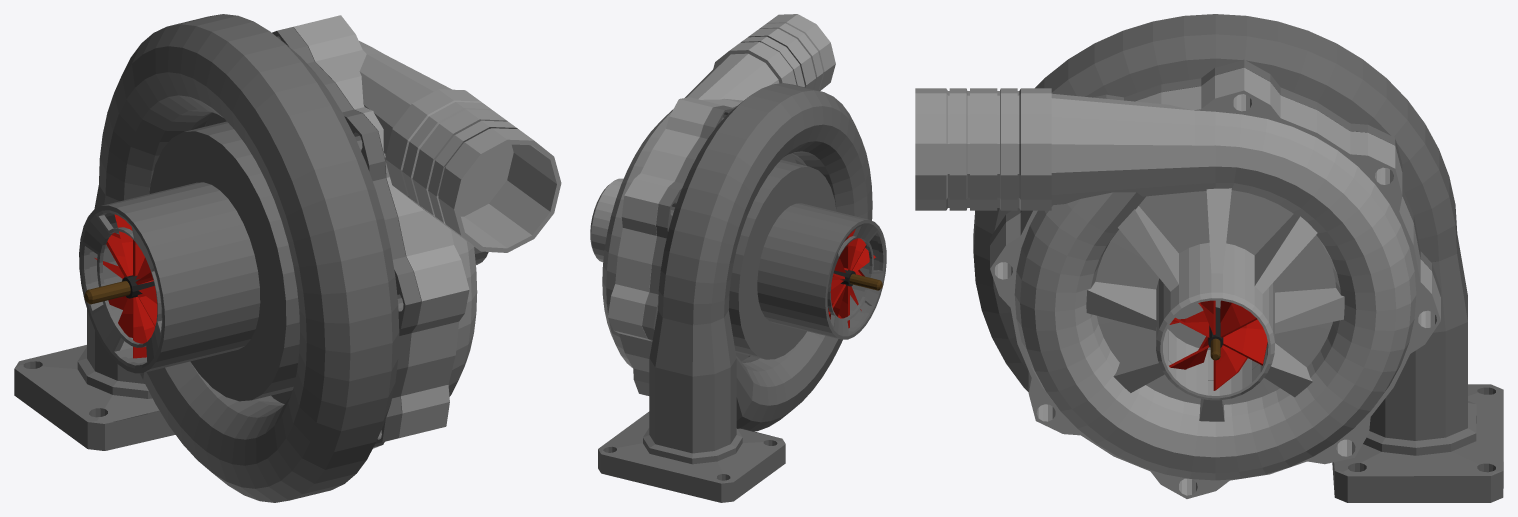
Rendered from Turbo.fbx.
3 renders of one model, left to right at view 1: azimuth 30°, elevation 25°; view 2: azimuth 150°, elevation 25°; view 3: azimuth 270°, elevation 25°, orthographic. The views are drawn at different scales.
Parts seen in each view (by area): view 1: Intake turbo, Exhaust of the turbo, Main Body Turbo, Fan outer part of the turbo body.001; view 2: Intake turbo, Main Body Turbo, Exhaust of the turbo, Fan outer part of the turbo body.001; view 3: Exhaust of the turbo, Main Body Turbo, Intake turbo, Fan outer part of the turbo body.
Part boxes in pixels (bbox=[...]): Intake turbo: bbox=[14, 14, 421, 502]; Exhaust of the turbo: bbox=[359, 41, 561, 396]; Main Body Turbo: bbox=[293, 15, 488, 448]; Fan outer part of the turbo body.001: bbox=[84, 214, 157, 358]; Intake turbo: bbox=[598, 83, 886, 502]; Main Body Turbo: bbox=[590, 97, 743, 395]; Exhaust of the turbo: bbox=[602, 14, 835, 367]; Fan outer part of the turbo body.001: bbox=[828, 229, 882, 328]; Exhaust of the turbo: bbox=[915, 88, 1416, 480]; Main Body Turbo: bbox=[990, 67, 1440, 498]; Intake turbo: bbox=[973, 14, 1503, 502]; Fan outer part of the turbo body: bbox=[1169, 300, 1267, 390].
Bounding box in the file's own units: 215 × 230 × 280.
